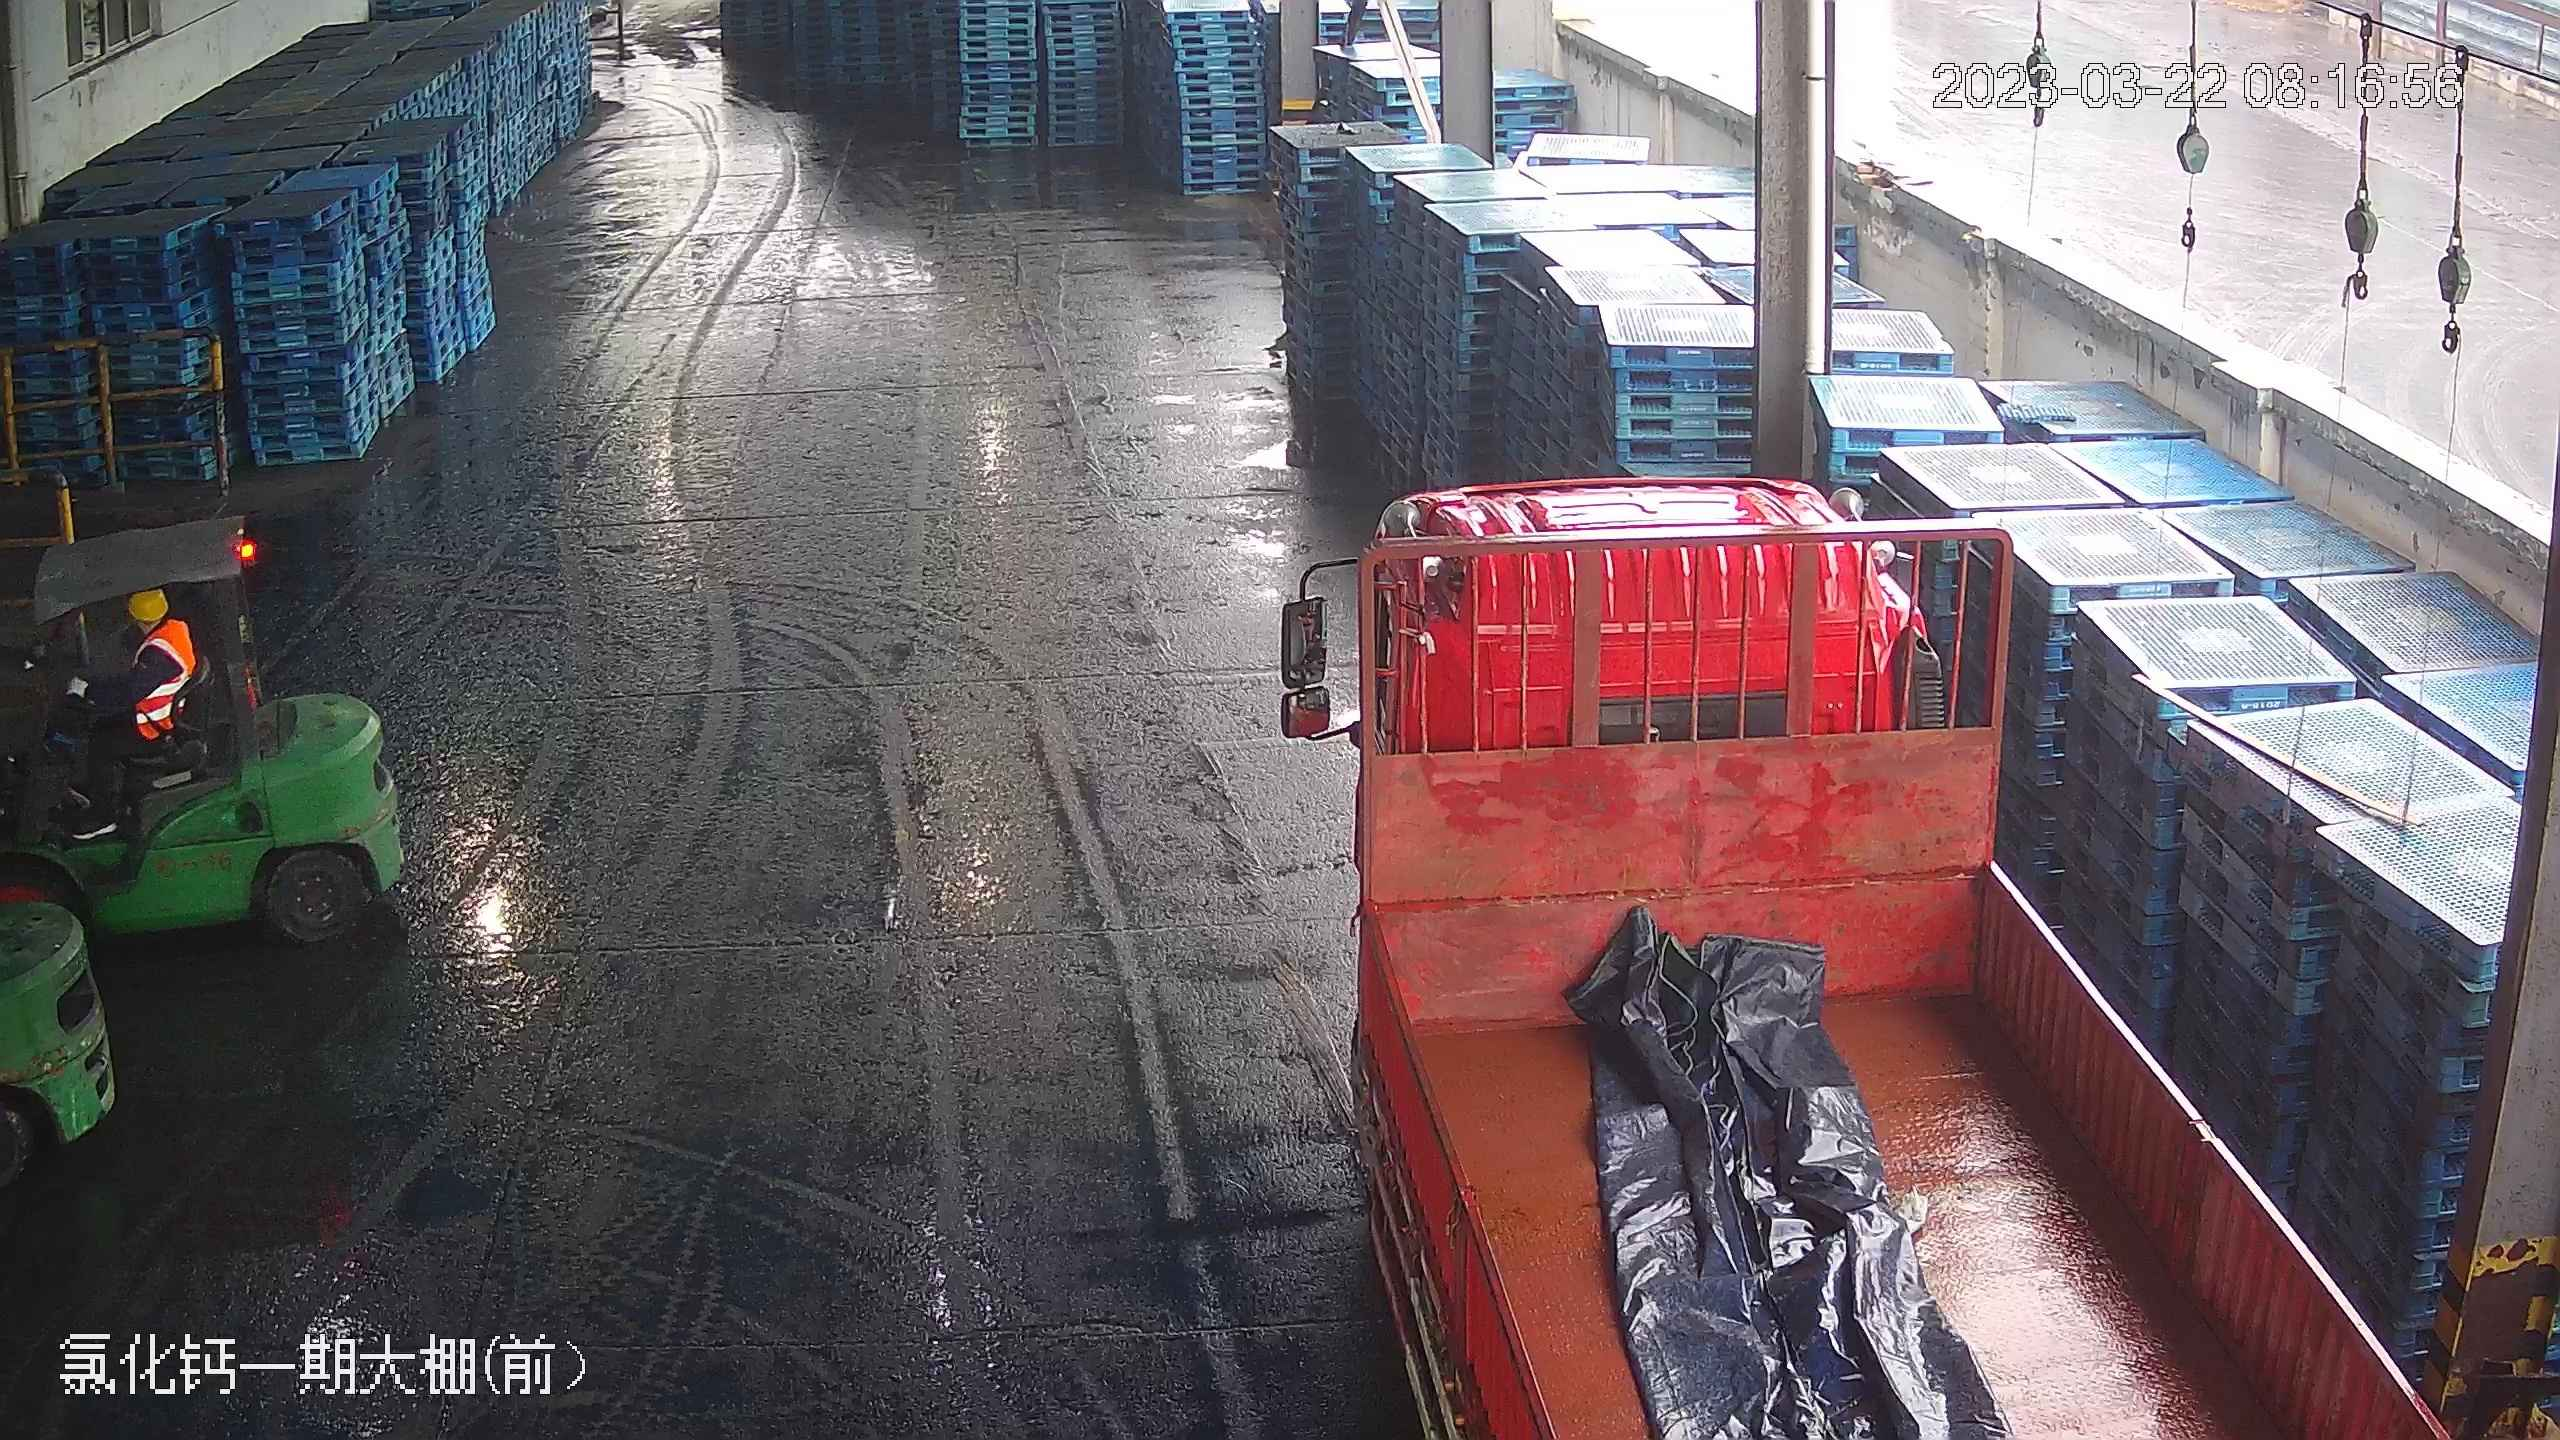head: (96, 587, 196, 695)
helmet: (125, 588, 168, 622)
people: (58, 587, 200, 811)
truck: (1298, 457, 2468, 1440)
